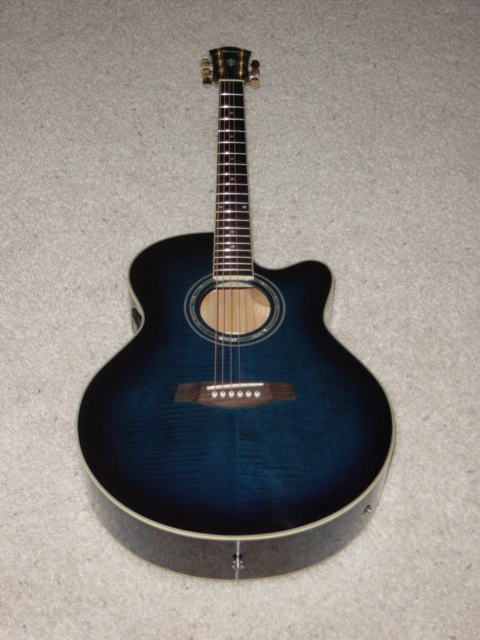guitar: (74, 44, 398, 583)
